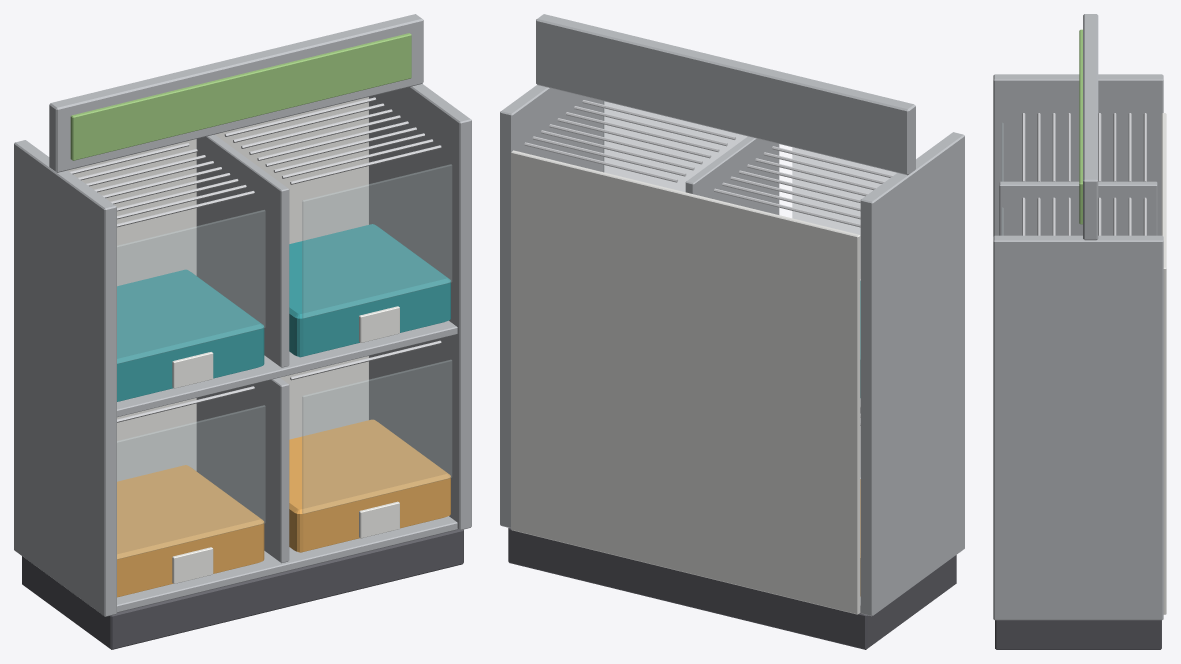
File: pet-shop-and-grooming-salon-small-animal-habitat-unit-83d6bc77__34585.glb
3 views of the same model, side by side, from view 1: azimuth 30°, elevation 25°; view 2: azimuth 150°, elevation 25°; view 3: azimuth 270°, elevation 25° (orthographic). The views are drawn at different scales.
Parts seen in each view (by area): view 1: small-animal-habitat-unit; view 2: small-animal-habitat-unit; view 3: small-animal-habitat-unit.
Boxes of the visible parts, x1,y1,x2,y2 form: small-animal-habitat-unit: (14, 14, 471, 649); small-animal-habitat-unit: (500, 14, 964, 649); small-animal-habitat-unit: (993, 14, 1166, 649).
Bounding box in the file's own units: 1.3 × 1.72 × 0.57.
